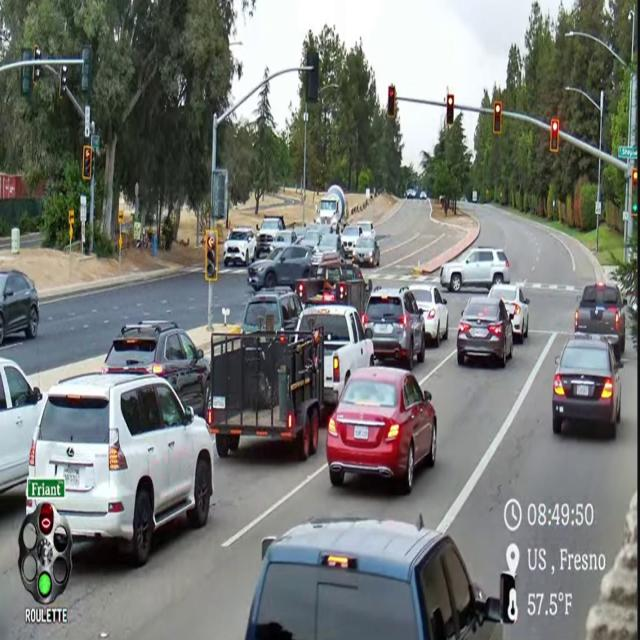car: (29, 374, 213, 566), (244, 518, 514, 639), (327, 367, 436, 493), (102, 320, 210, 415), (553, 338, 623, 438), (0, 359, 43, 493), (362, 287, 425, 369), (457, 296, 513, 367), (440, 248, 509, 292), (248, 245, 312, 290), (0, 271, 38, 344), (242, 288, 302, 333), (410, 283, 448, 346), (489, 284, 529, 343), (224, 227, 256, 266), (313, 233, 344, 262), (352, 236, 380, 266), (341, 224, 361, 256), (298, 225, 322, 249), (272, 230, 297, 249), (358, 221, 376, 238), (406, 189, 416, 199), (419, 191, 427, 199)
traffic signal: (204, 229, 218, 282), (306, 50, 319, 103), (80, 46, 92, 94), (82, 145, 92, 181), (21, 66, 32, 96), (387, 85, 396, 119), (550, 119, 559, 152), (493, 102, 502, 135), (59, 65, 67, 98), (446, 94, 454, 126), (32, 65, 41, 83), (632, 168, 637, 188)
truck: (206, 331, 324, 460), (297, 304, 374, 409), (296, 259, 372, 314), (574, 282, 626, 360), (317, 184, 347, 232), (255, 216, 285, 259)
